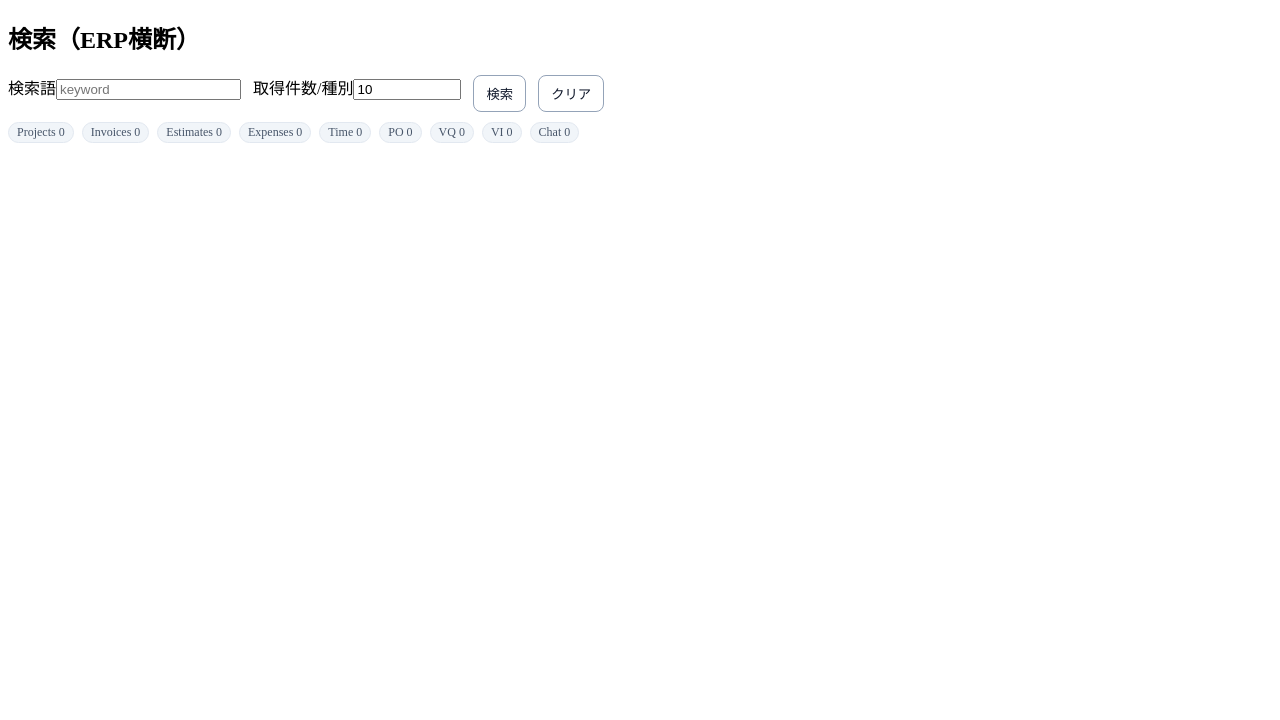
Test: GlobalSearch › clears the query, message, and existing results
Type "AB" into the field labelled "検索語" at (148, 89), box [56,79,241,100]
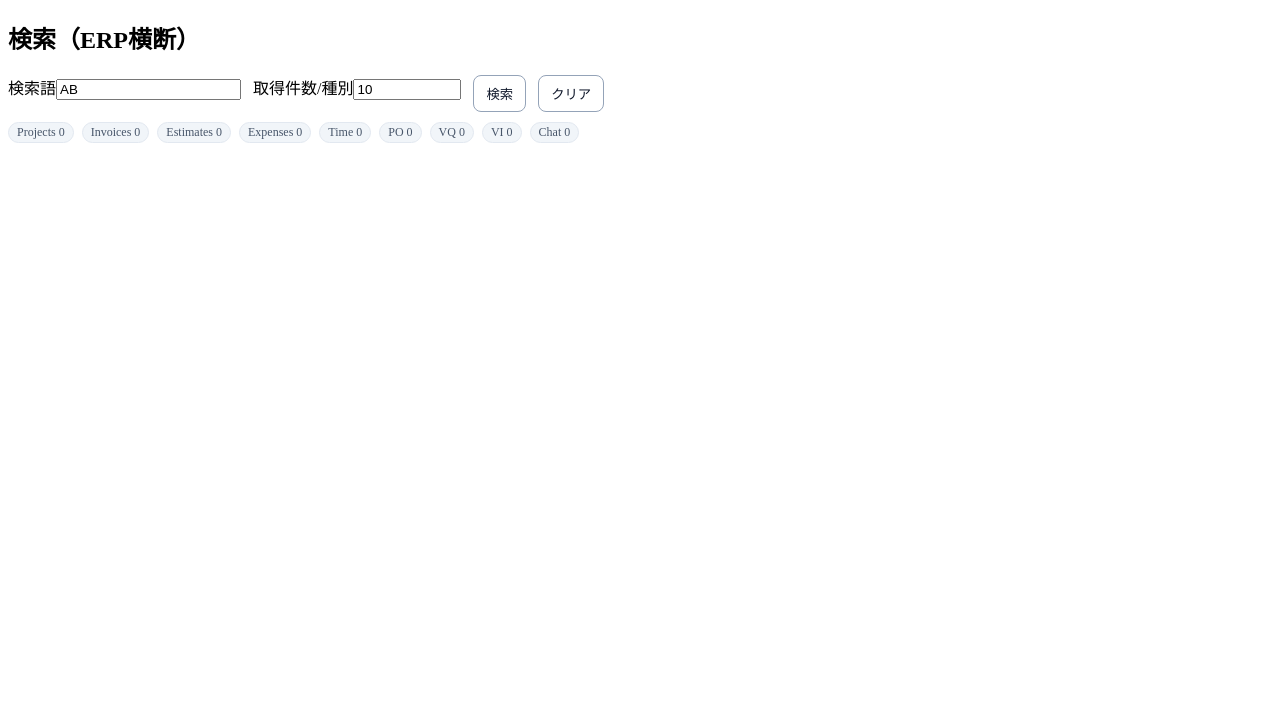
Click the button "検索" at (500, 93), box [474,75,526,112]
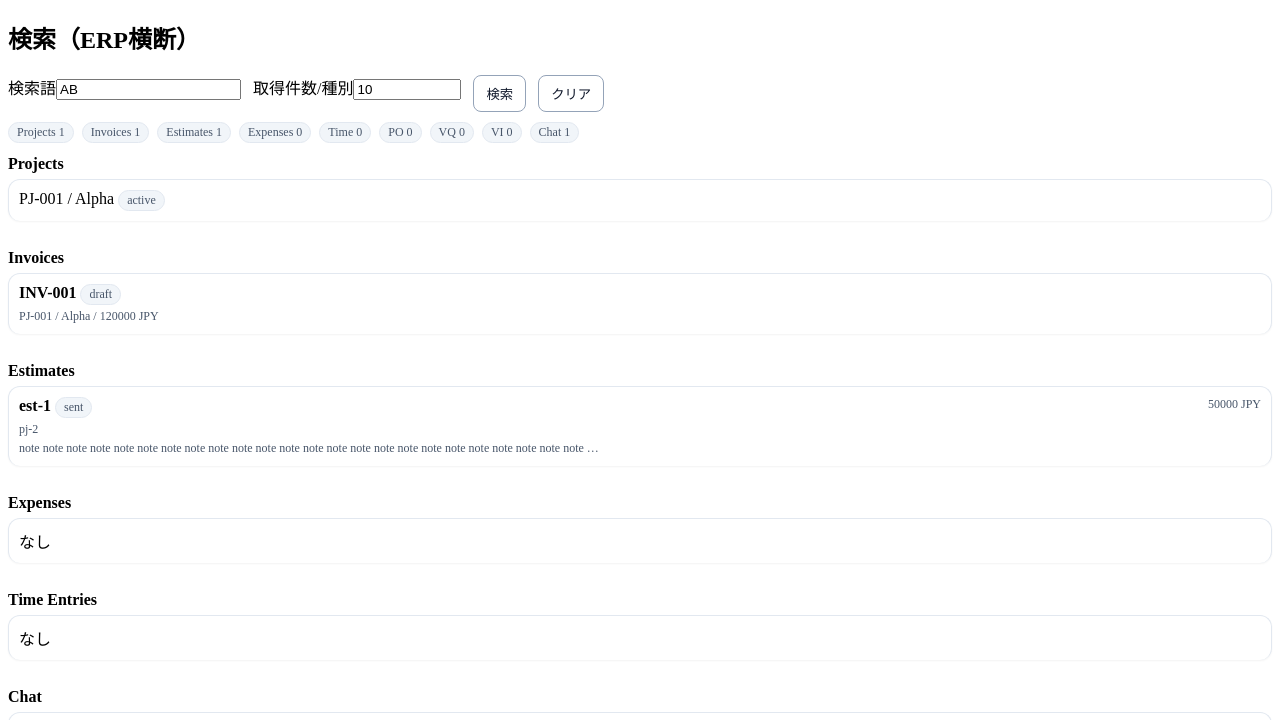
expect the list item "PJ-001 / Alpha" is shown: met, box [8,179,1272,221]
expect the text "Projects 1" is shown: met, box [8,122,74,143]
expect the text "Chat 1" is shown: met, box [530,122,579,143]
Click the button "クリア" at (571, 93), box [538,75,604,112]
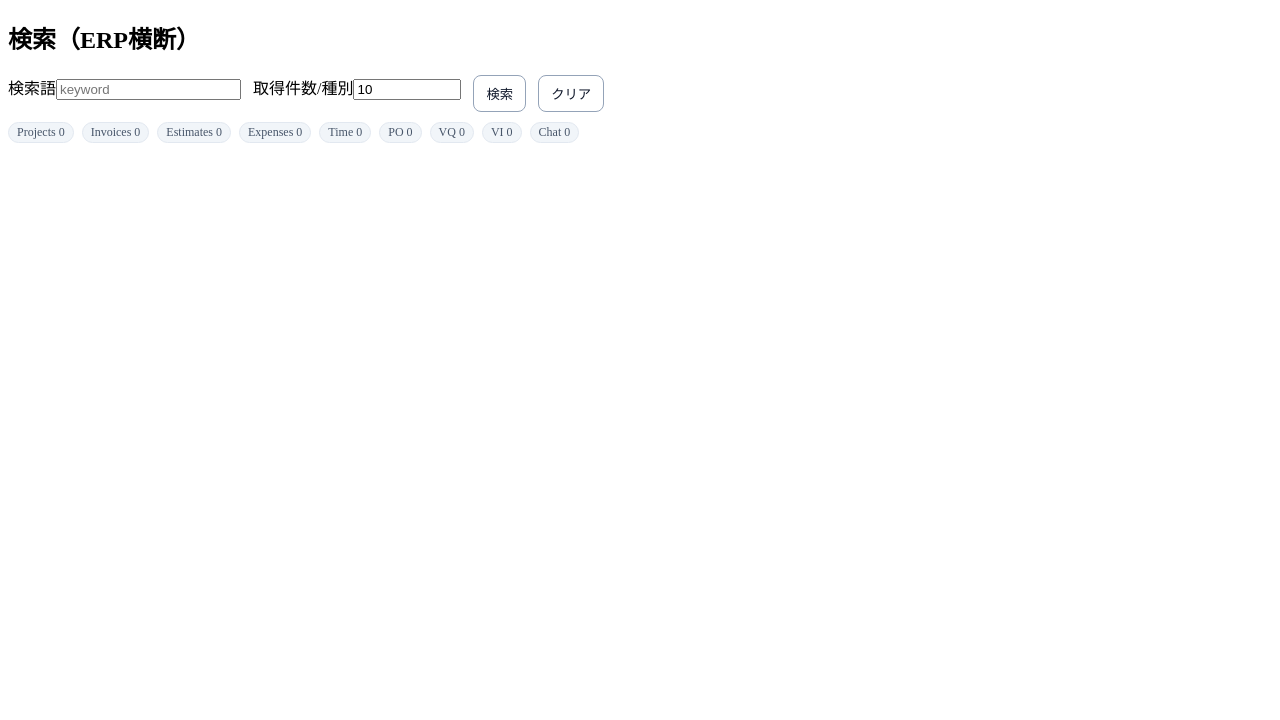
expect the field labelled "検索語" is empty: met, box [56,79,241,100]
expect the list item "PJ-001 / Alpha" is gone: met
expect the text "Projects 0" is shown: met, box [8,122,74,143]
